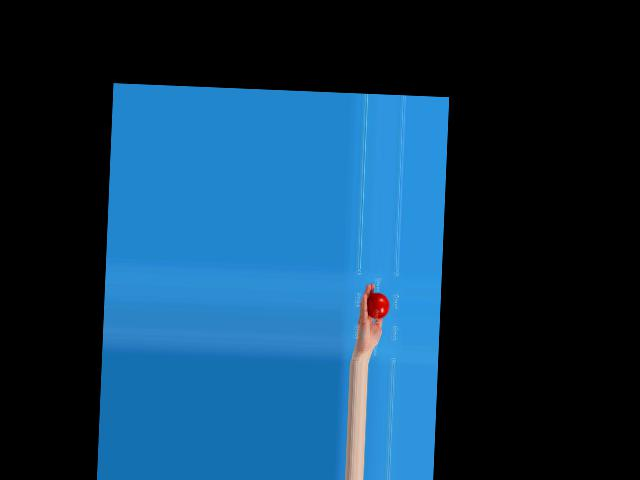tomato: (366, 292, 389, 319)
